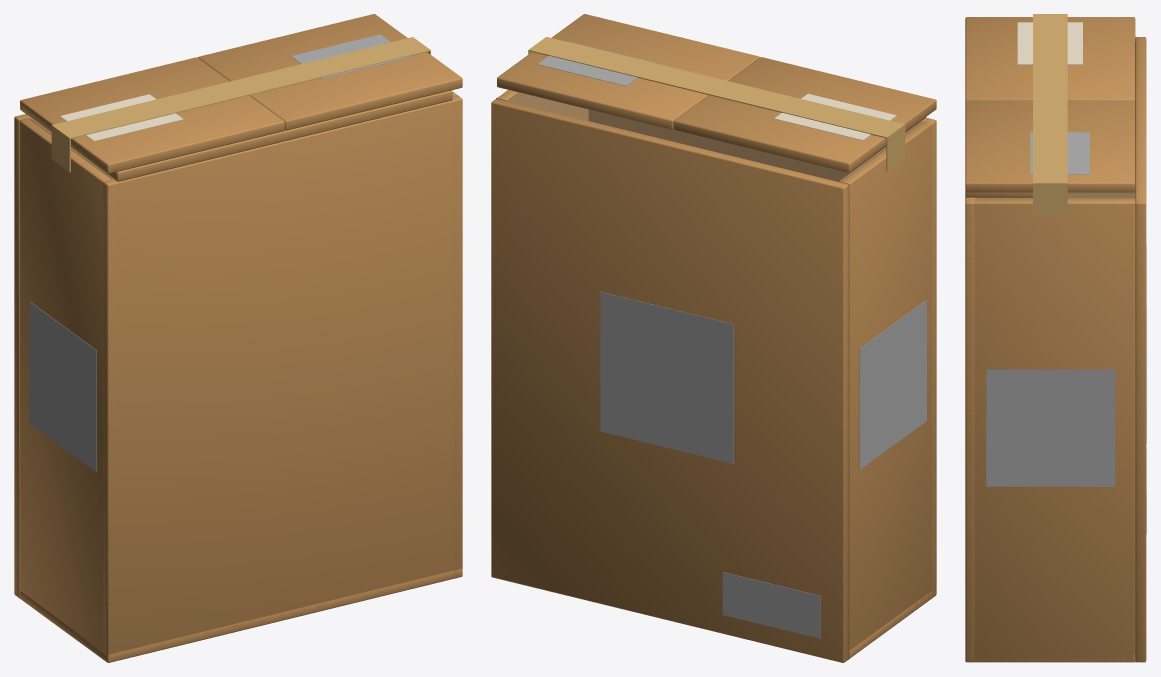
The picture shows the model from 3 angles, left to right: view 1: azimuth 30°, elevation 25°; view 2: azimuth 150°, elevation 25°; view 3: azimuth 270°, elevation 25°; orthographic projection. The views are drawn at different scales.
Visible parts, largest first — view 1: box_3x4, FlapR, FlapL, Tape, FlapB, Front; view 2: Front, box_3x4, FlapR, FlapL, Tape; view 3: box_3x4, FlapL, FlapR, Front, Tape, FlapB.
Boxes of the visible parts, bbox=[...] form: box_3x4: bbox=[19, 92, 462, 662]; FlapR: bbox=[20, 57, 284, 173]; FlapL: bbox=[198, 14, 462, 130]; Tape: bbox=[51, 37, 430, 171]; FlapB: bbox=[76, 90, 452, 181]; Front: bbox=[14, 114, 111, 597]; Front: bbox=[491, 98, 848, 662]; box_3x4: bbox=[496, 90, 936, 659]; FlapR: bbox=[673, 57, 936, 172]; FlapL: bbox=[497, 14, 759, 129]; Tape: bbox=[528, 37, 905, 170]; box_3x4: bbox=[965, 36, 1135, 662]; FlapL: bbox=[965, 100, 1135, 192]; FlapR: bbox=[965, 17, 1135, 101]; Front: bbox=[1135, 37, 1146, 662]; Tape: bbox=[1033, 14, 1067, 215]; FlapB: bbox=[965, 191, 1032, 197].
Bounding box in the file's own units: 0.807 × 1.07 × 0.3649.
